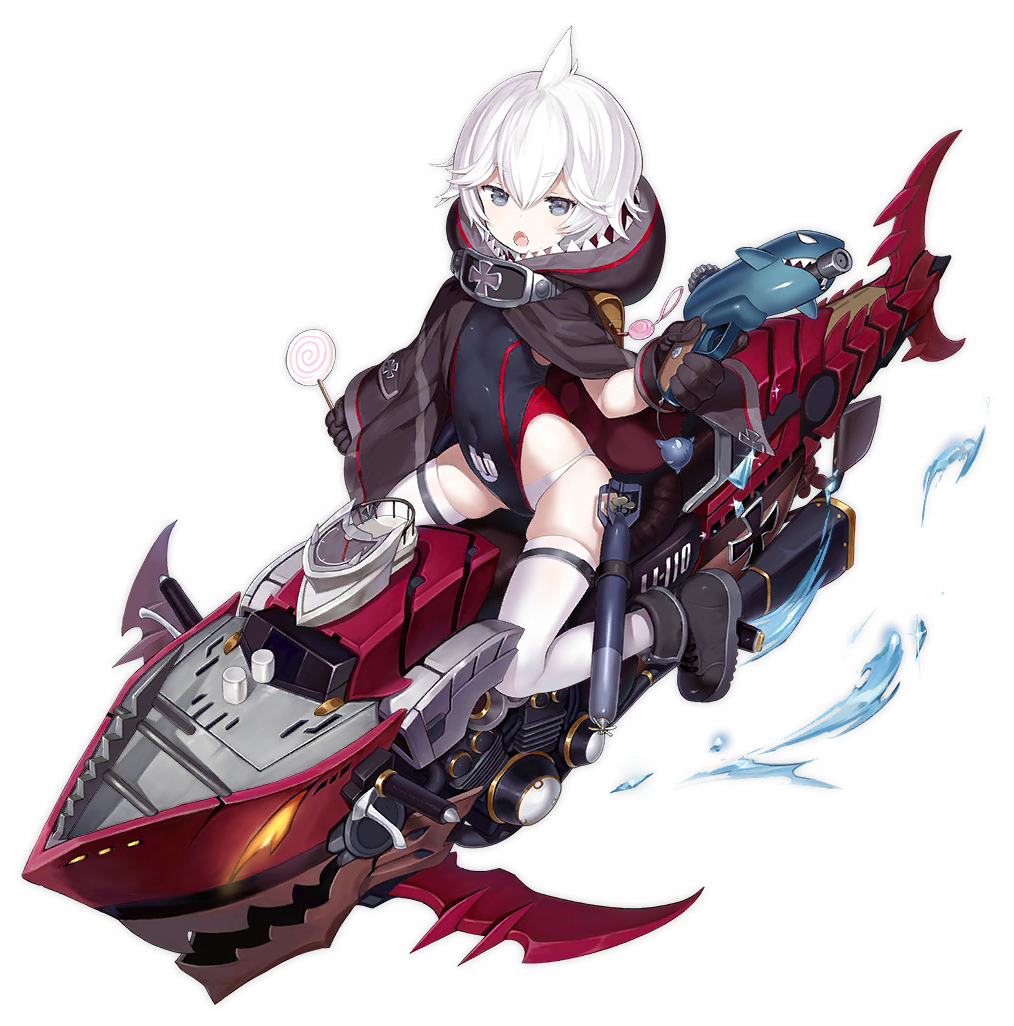person: (108, 43, 928, 862)
